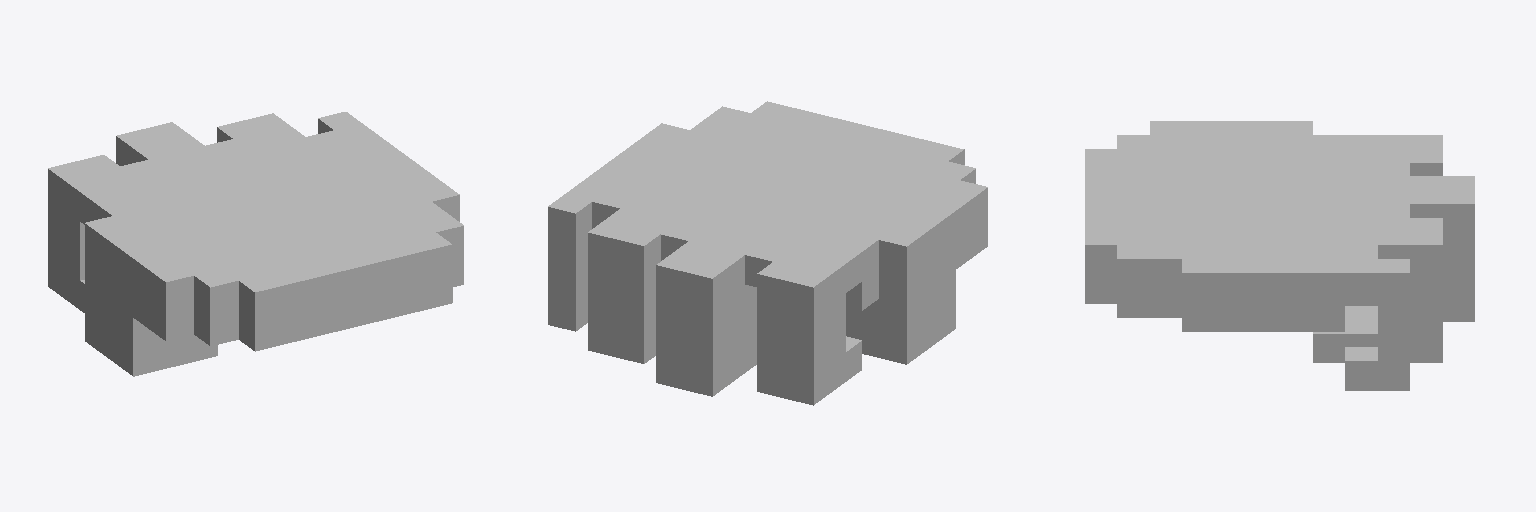
File: Stone.obj
3 renders of one model, left to right at view 1: azimuth 30°, elevation 25°; view 2: azimuth 150°, elevation 25°; view 3: azimuth 270°, elevation 25°, orthographic.
Parts seen in each view (by area): view 1: Stone; view 2: Stone; view 3: Stone.
Part boxes in pixels (x1,y1,x2,y2): Stone: (48,112,463,376); Stone: (548,101,987,405); Stone: (1085,121,1474,390).
Size of the model in its own units: 11 by 4 by 12.